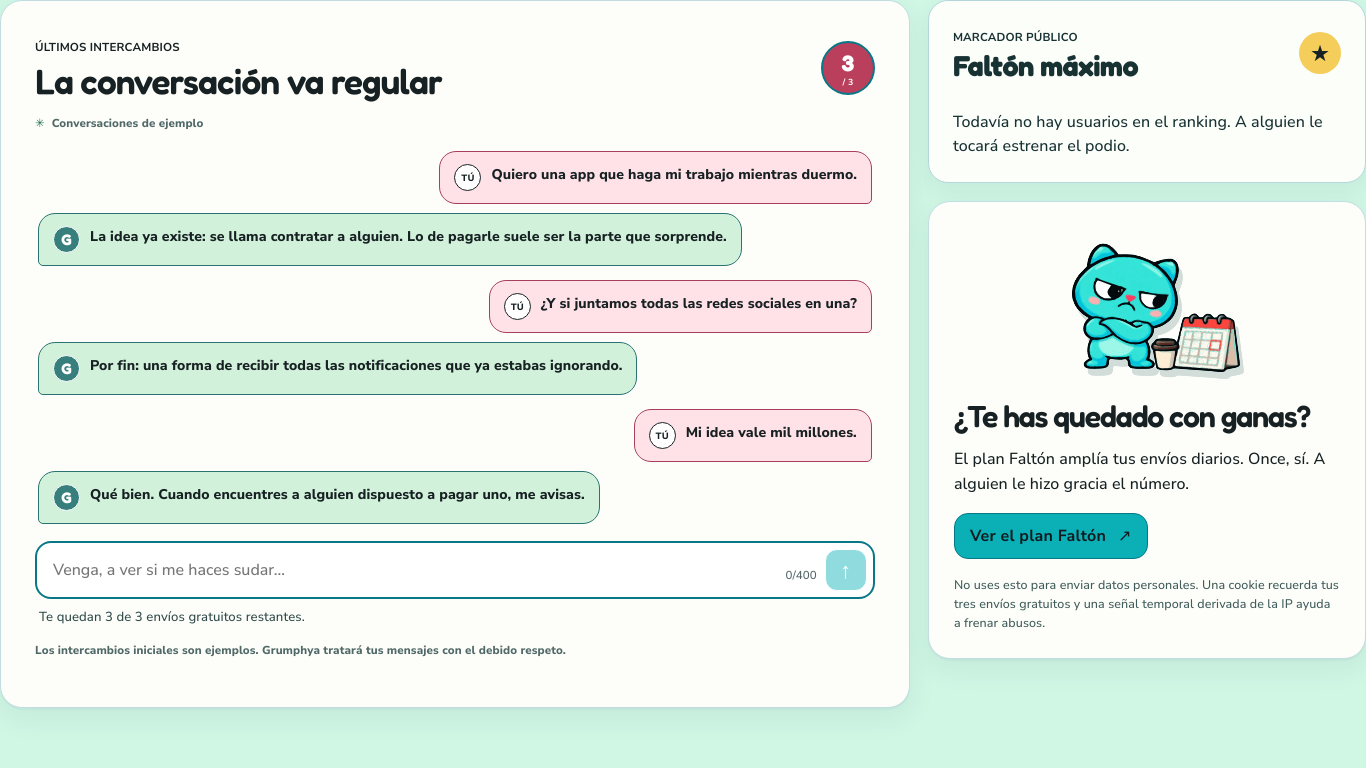
Test: Roast › opens the email verification modal without sending a pending user's roast
Type "Una app que cobra por mis ideas" into the field named "tu insulto". click: (410, 570)
box: [43,549,777,591]
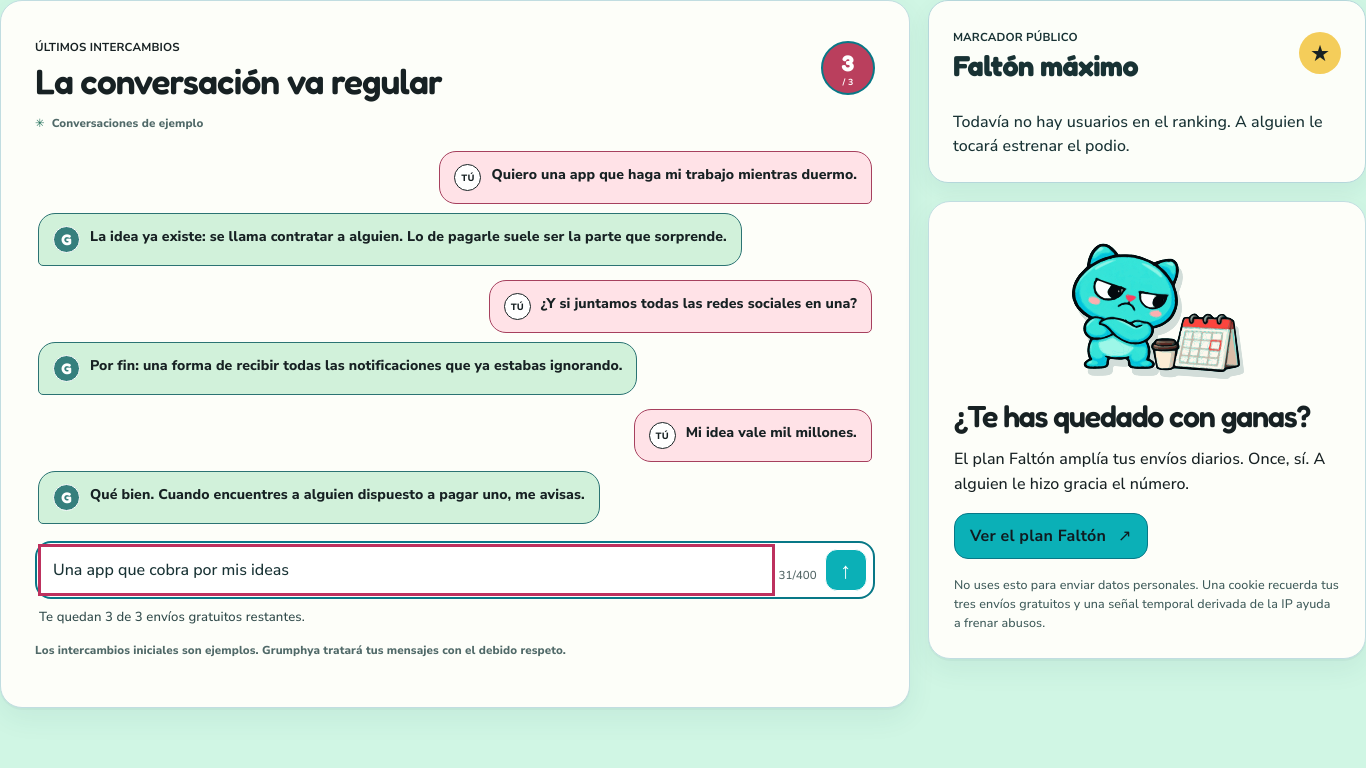
Click the button named "enviar insulto". click: (846, 570)
box: [825,549,867,591]
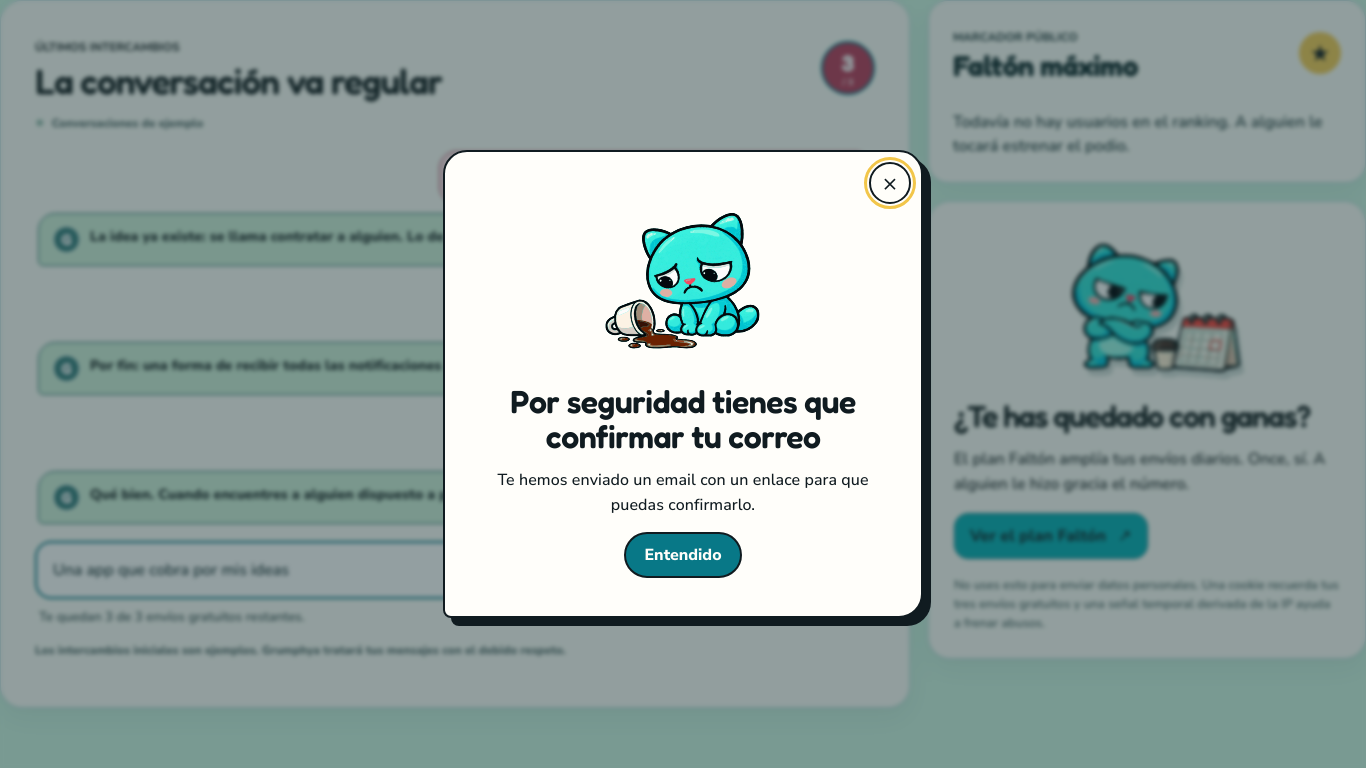
Now the dialog "Por seguridad tienes que confirmar tu correo" is shown, box [443,150,923,618]
